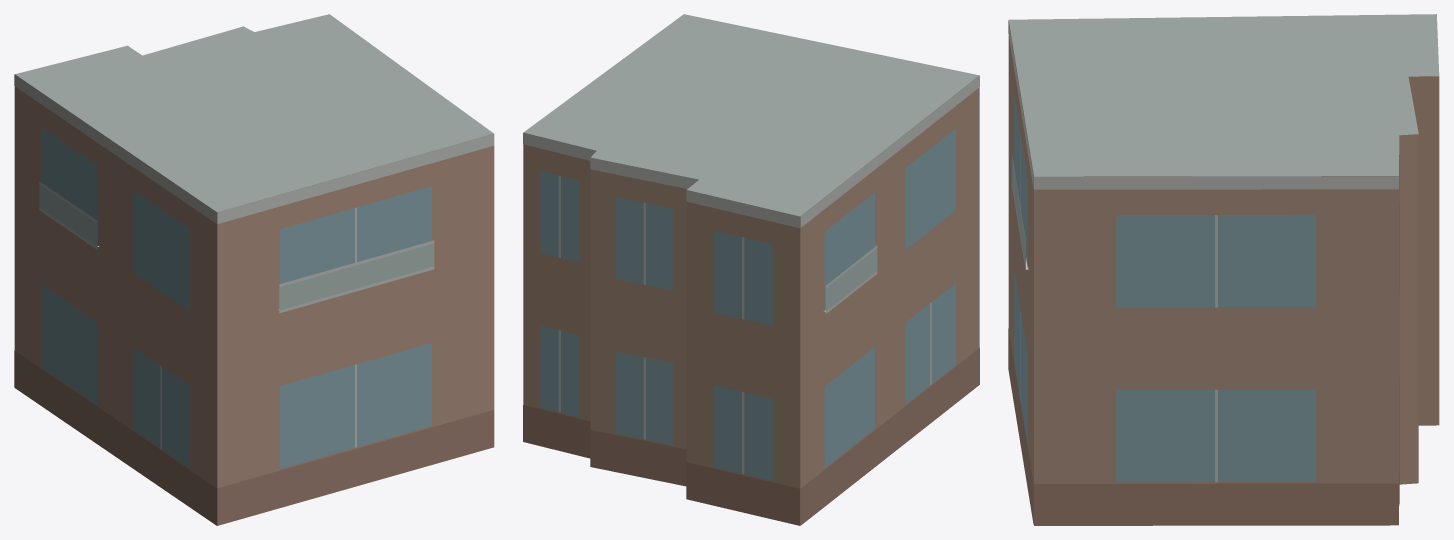
Rendered from survey-upis-32495910.glb.
The picture shows the model from 3 angles, left to right: view 1: azimuth 30°, elevation 25°; view 2: azimuth 150°, elevation 25°; view 3: azimuth 270°, elevation 25°; orthographic projection. The views are drawn at different scales.
Parts seen in each view (by area): view 1: survey-upis-32495910.tmp; view 2: survey-upis-32495910.tmp; view 3: survey-upis-32495910.tmp.
Boxes of the visible parts, x1,y1,x2,y2 form: survey-upis-32495910.tmp: [14, 14, 494, 525]; survey-upis-32495910.tmp: [523, 14, 979, 525]; survey-upis-32495910.tmp: [1008, 14, 1439, 525].
Size of the model in its own units: 6.4 by 6.4 by 7.16.
